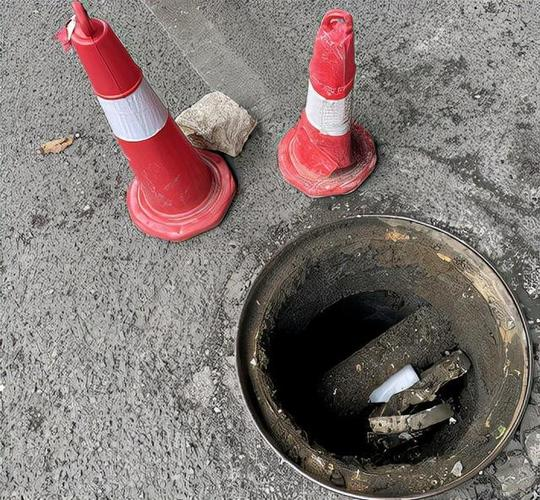lose: (208, 220, 530, 499)
